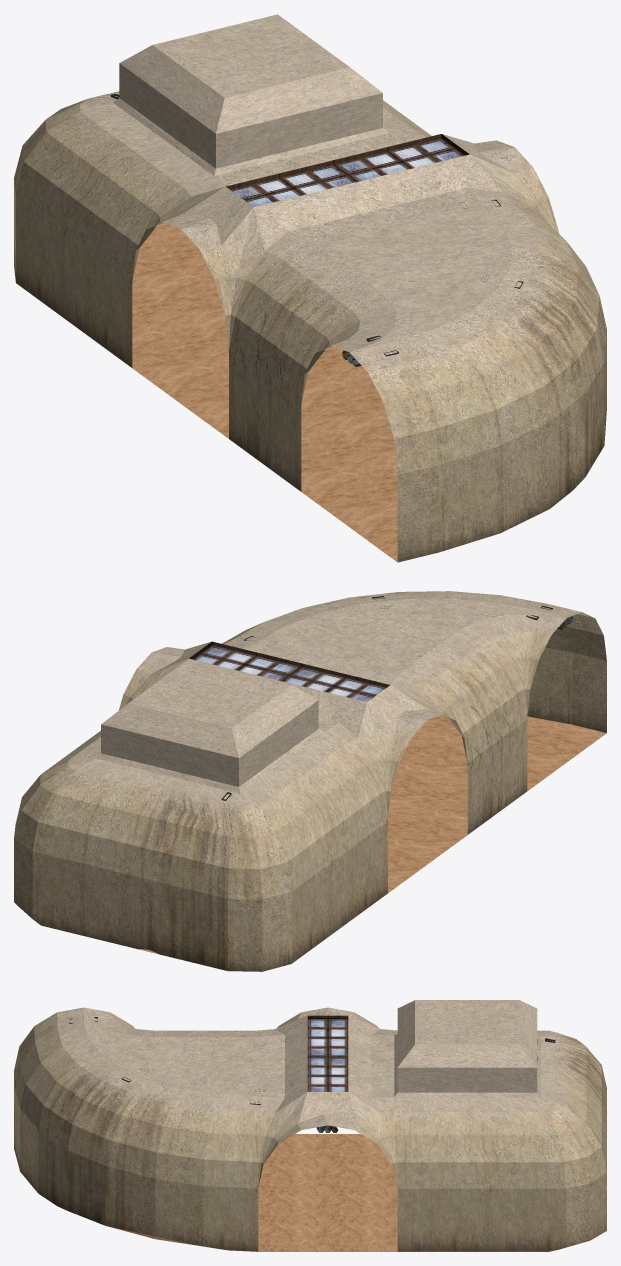
The model's file is thm_tato_jabbas_palace_r5_hall2_mesh_r5.fbx.
3 views of the same model, one above another, from view 1: azimuth 30°, elevation 25°; view 2: azimuth 150°, elevation 25°; view 3: azimuth 270°, elevation 25° (orthographic). The views are drawn at different scales.
Parts seen in each view (by area): view 1: mesh_node; view 2: mesh_node; view 3: mesh_node.
Boxes of the visible parts, x1=… form: mesh_node: x1=14, y1=14, x2=606, y2=562; mesh_node: x1=14, y1=591, x2=606, y2=971; mesh_node: x1=14, y1=1000, x2=606, y2=1251.
Bounding box in the file's own units: 8 × 5.4 × 17.
